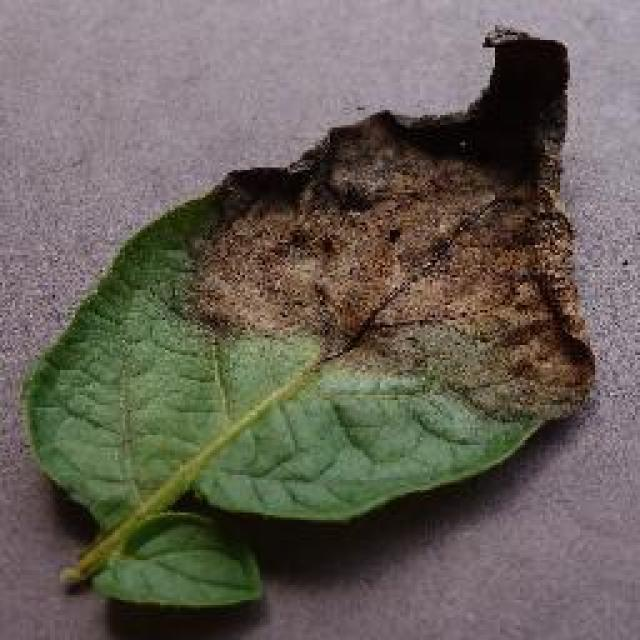late_blight: (22, 19, 590, 614)
